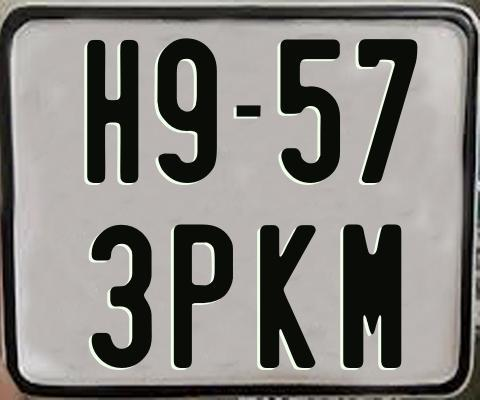3: (91, 222, 157, 366)
5: (279, 38, 340, 187)
7: (358, 36, 417, 186)
9: (155, 36, 217, 186)
H: (85, 40, 140, 186)
K: (260, 223, 317, 368)
M: (343, 221, 401, 370)
P: (172, 222, 233, 371)
